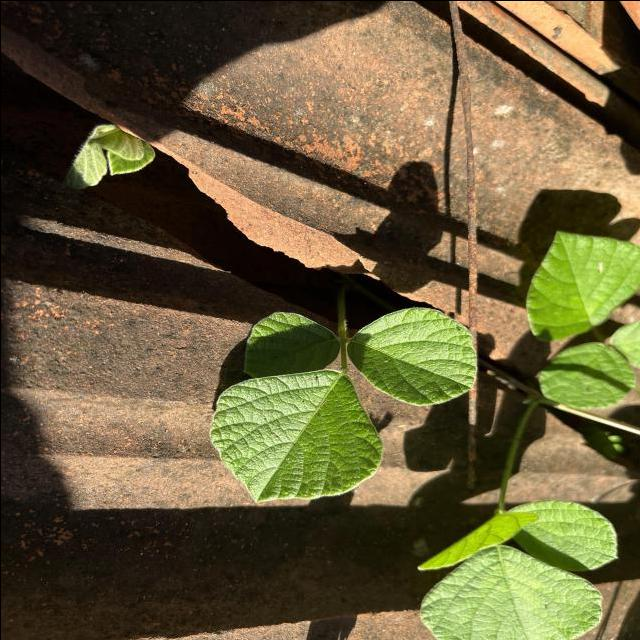Pseudarthria viscida: (206, 304, 479, 504)
